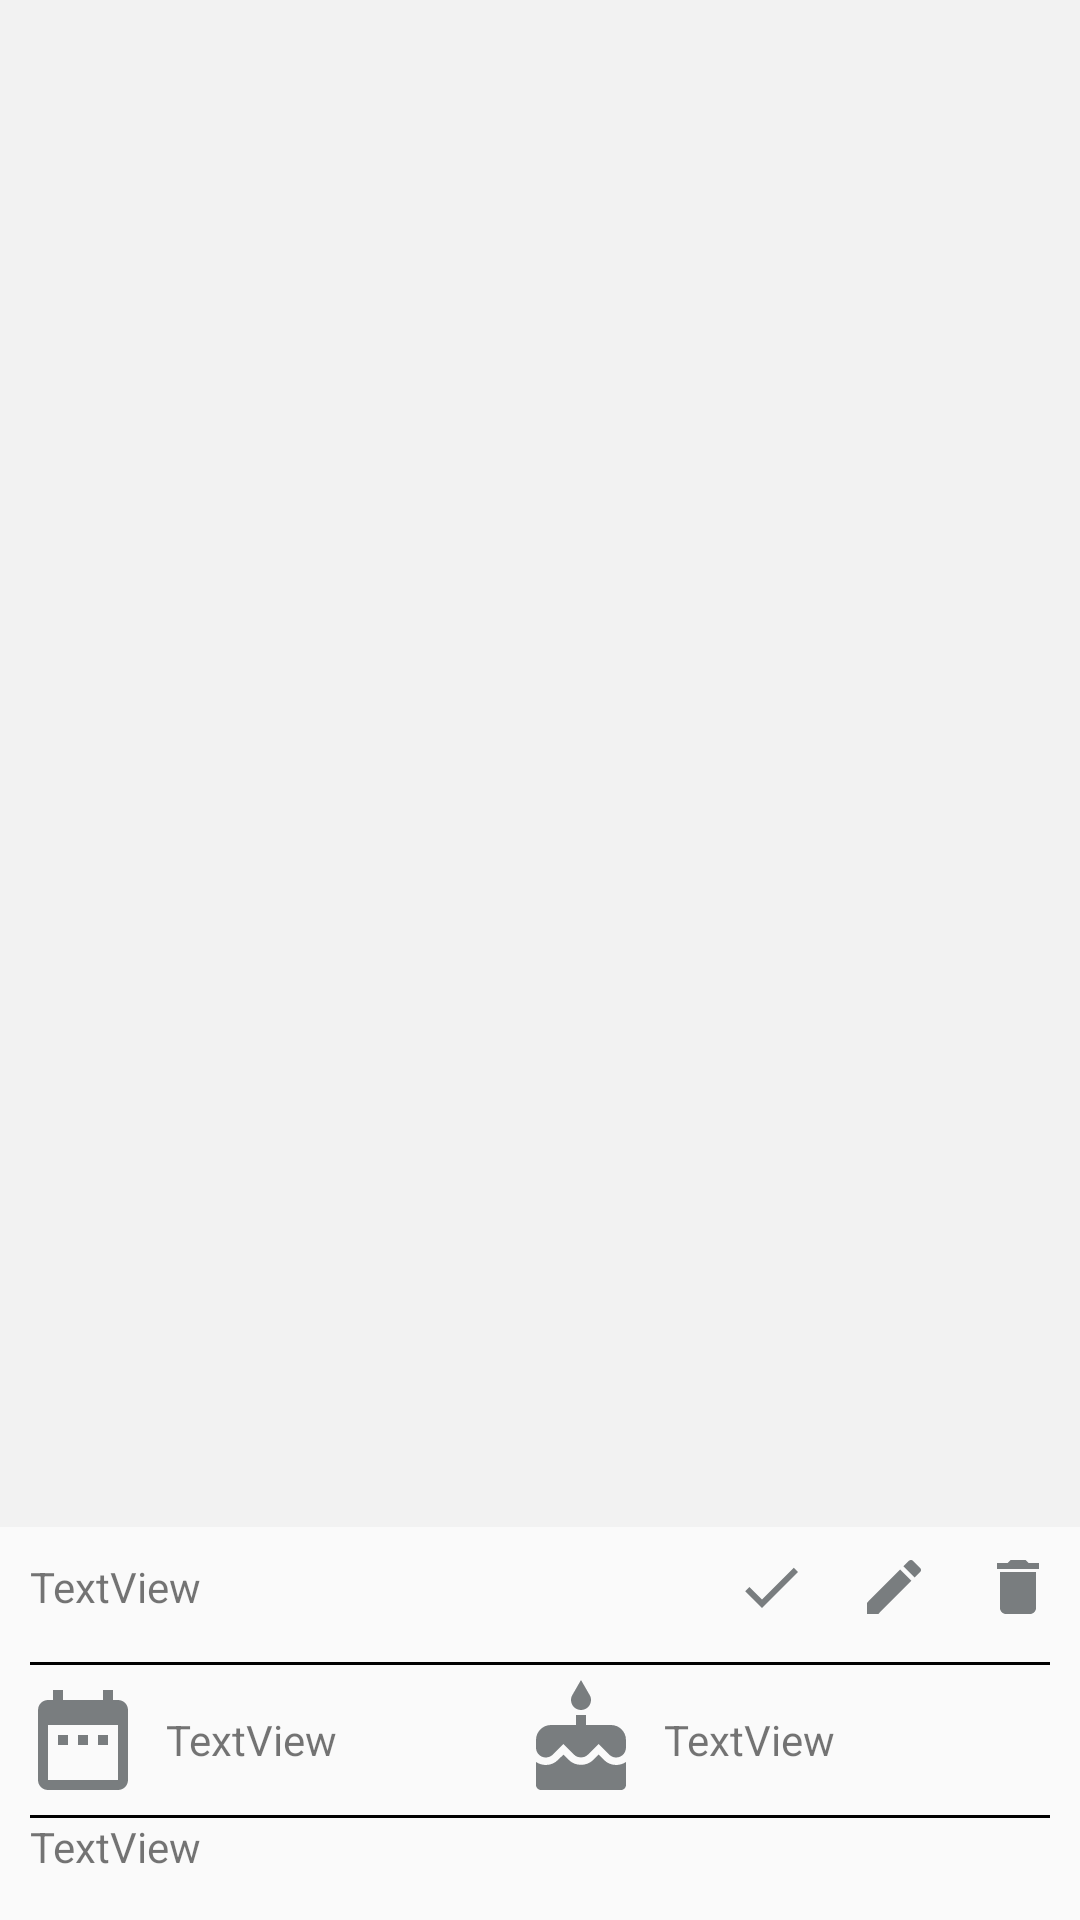

Where to tap for icons on this 1080px x 1920px app screen, as (x=x, y=y):
cake: (x=581, y=1735)
create: (x=894, y=1587)
date range: (x=83, y=1740)
done: (x=771, y=1588)
